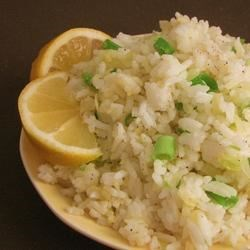plain rice: (92, 38, 248, 244)
